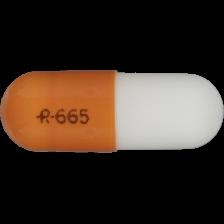0615-1376: (0, 0, 224, 224)
